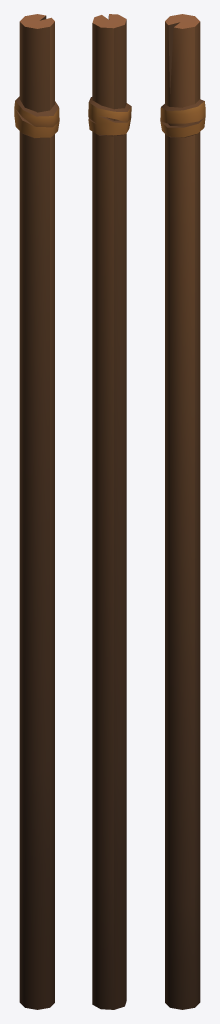
File: Wooden_Pole_1A.fbx
3 views of the same model, side by side, from view 1: azimuth 90°, elevation 25°; view 2: azimuth 150°, elevation 25°; view 3: azimuth 270°, elevation 25° (orthographic).
Visible parts, largest first — view 1: Wooden_Pole_1A; view 2: Wooden_Pole_1A; view 3: Wooden_Pole_1A.
Boxes of the visible parts, x1,y1,x2,y2 form: Wooden_Pole_1A: [14, 14, 59, 1009]; Wooden_Pole_1A: [88, 14, 131, 1009]; Wooden_Pole_1A: [160, 14, 205, 1009].
Bounding box in the file's own units: 37.15 × 923 × 38.55.
